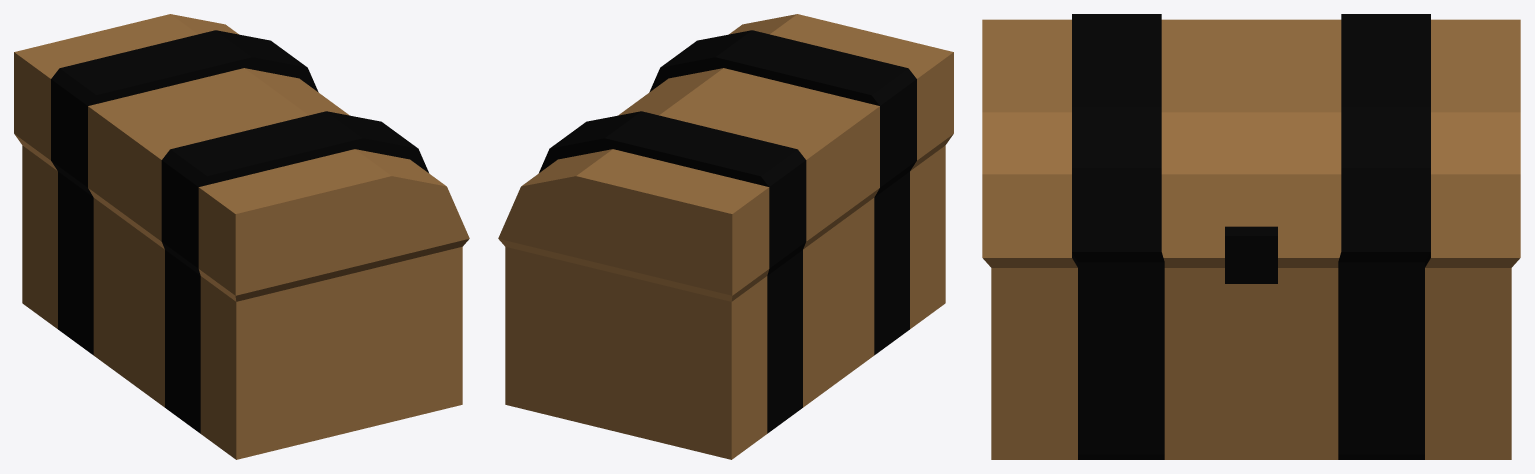
File: chest.fbx
The picture shows the model from 3 angles, left to right: view 1: azimuth 30°, elevation 25°; view 2: azimuth 150°, elevation 25°; view 3: azimuth 270°, elevation 25°; orthographic projection. The views are drawn at different scales.
Parts seen in each view (by area): view 1: Cube; view 2: Cube; view 3: Cube.
Part boxes in pixels (x1,y1,x2,y2): Cube: (14,14,469,459); Cube: (498,14,953,459); Cube: (982,14,1520,459).
Size of the model in its own units: 214 by 218 by 339.
